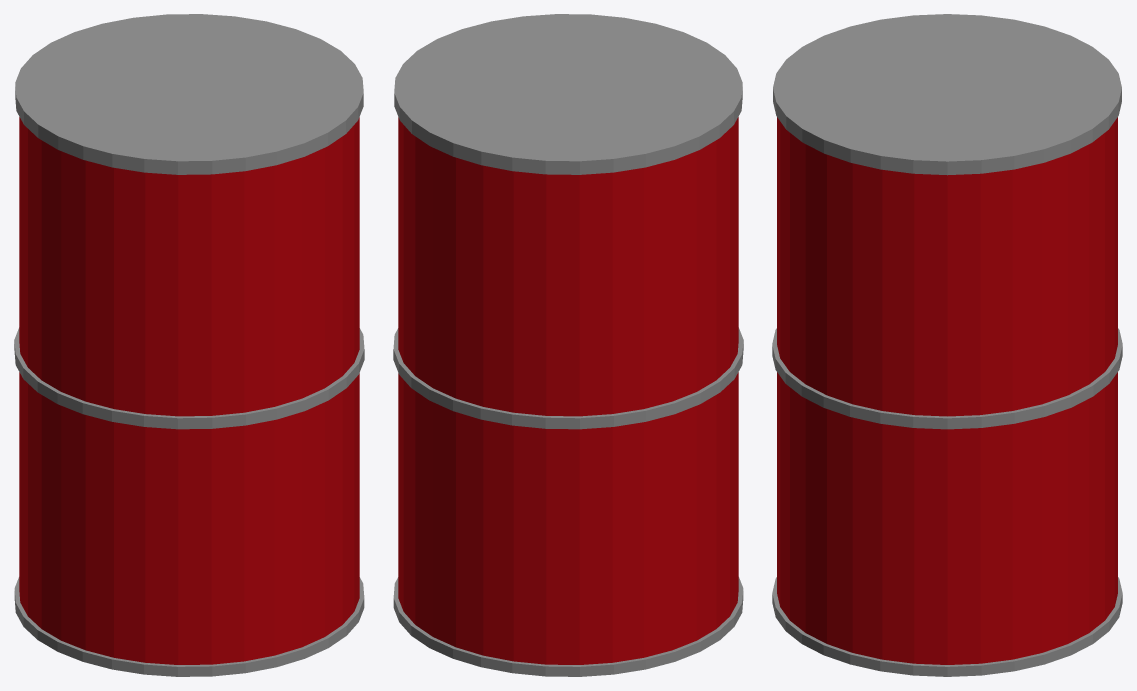
File: BarrelColored.glb
The picture shows the model from 3 angles, left to right: view 1: azimuth 30°, elevation 25°; view 2: azimuth 150°, elevation 25°; view 3: azimuth 270°, elevation 25°; orthographic projection.
Visible parts, largest first — view 1: Cylinder; view 2: Cylinder; view 3: Cylinder.
Part boxes in pixels (x1,y1,x2,y2): Cylinder: (14, 14, 364, 676); Cylinder: (393, 14, 743, 676); Cylinder: (772, 14, 1122, 676).
Bounding box in the file's own units: 2.06 × 3.33 × 2.06.
